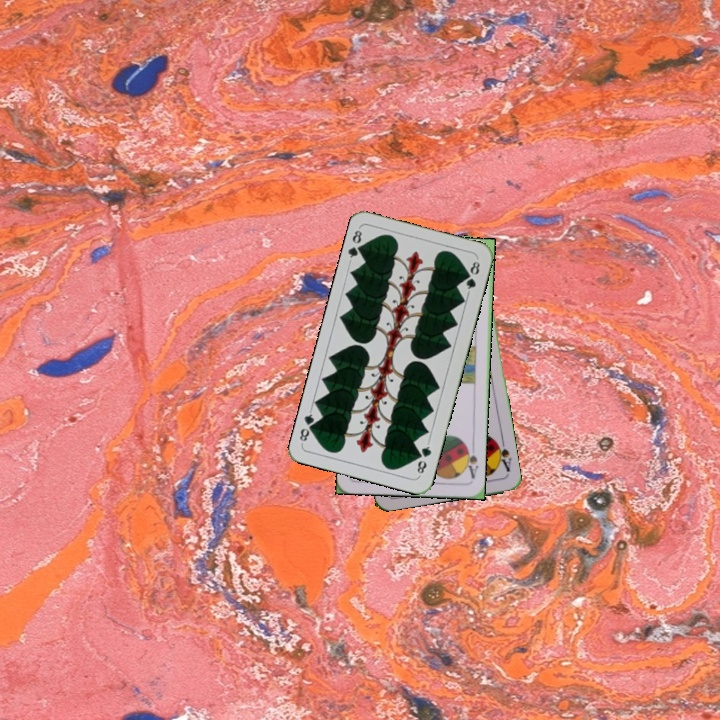G8: (344, 224, 367, 264), (413, 438, 434, 478)
SA: (491, 435, 514, 474), (461, 442, 481, 481)
